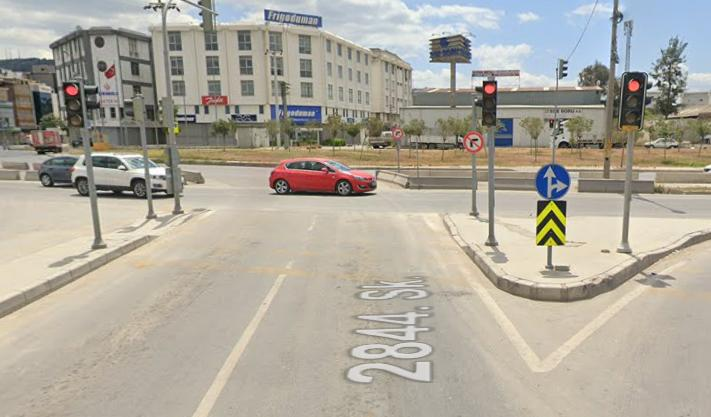redlight: (624, 74, 645, 125), (65, 81, 84, 126), (484, 81, 497, 123)
rightturnsareforbidden: (463, 132, 483, 152), (393, 128, 403, 138)
